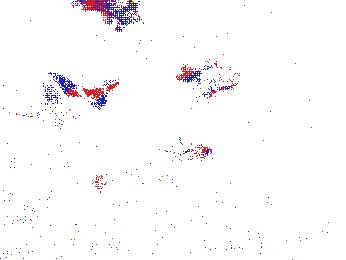X-ray fish: (124, 162, 183, 186), (240, 228, 293, 254)
red belly glassfish: (157, 142, 218, 161)
redtail glassfish: (179, 58, 241, 92), (77, 1, 142, 25)
